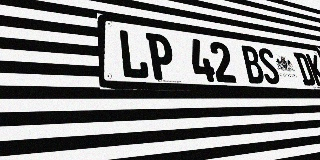2: (209, 41, 237, 83)
4: (188, 38, 217, 82)
B: (240, 45, 266, 84)
D: (293, 52, 317, 86)
K: (305, 54, 320, 86)
L: (118, 29, 150, 79)
P: (146, 33, 176, 80)
S: (256, 47, 282, 84)
